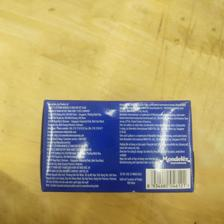Oreo: (39, 97, 195, 194)
